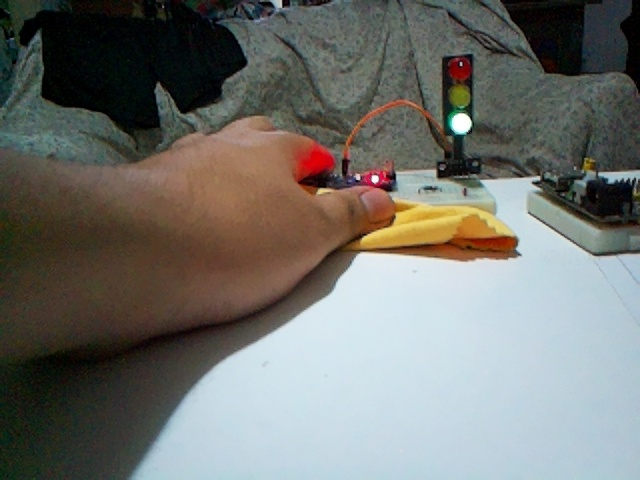traffic_light_green: (442, 54, 473, 161)
